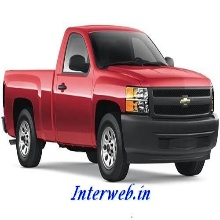no damage: (1, 24, 220, 182)
